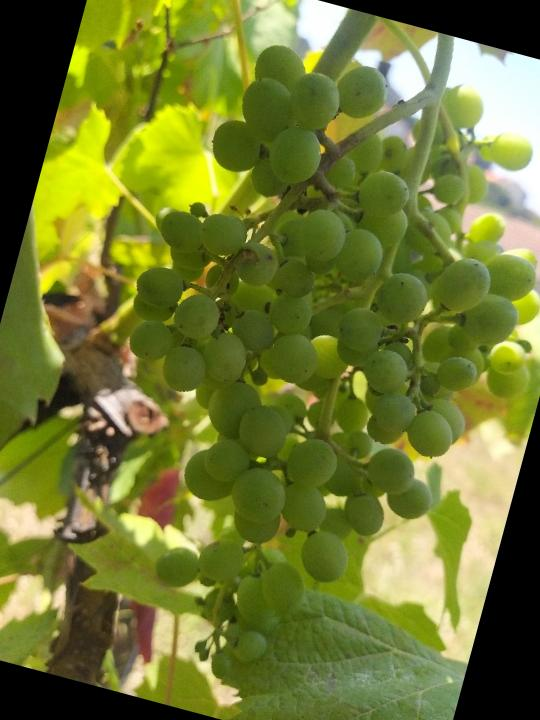grape: (40, 13, 540, 720)
